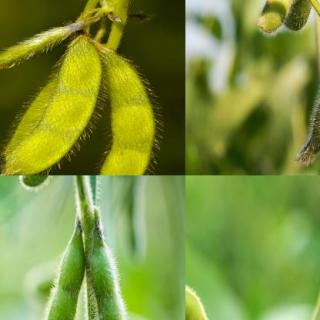soya: (0, 38, 102, 174), (94, 50, 154, 175), (10, 229, 84, 319), (90, 229, 144, 319), (0, 19, 78, 72), (294, 54, 319, 164), (185, 212, 210, 320), (255, 0, 303, 36), (284, 0, 319, 31), (18, 175, 67, 190)
